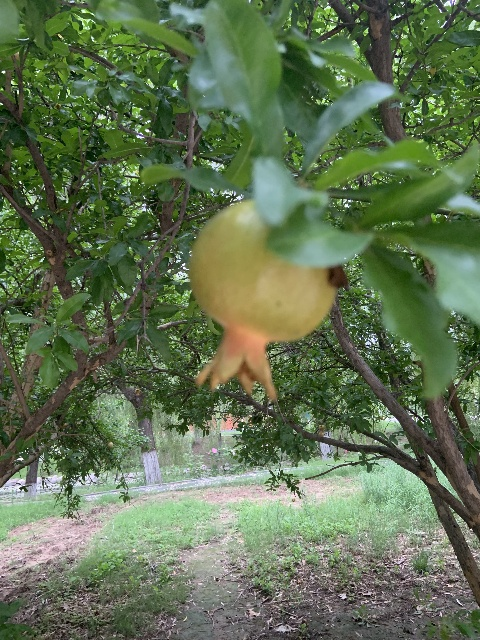mid-growth: (188, 200, 339, 400)
